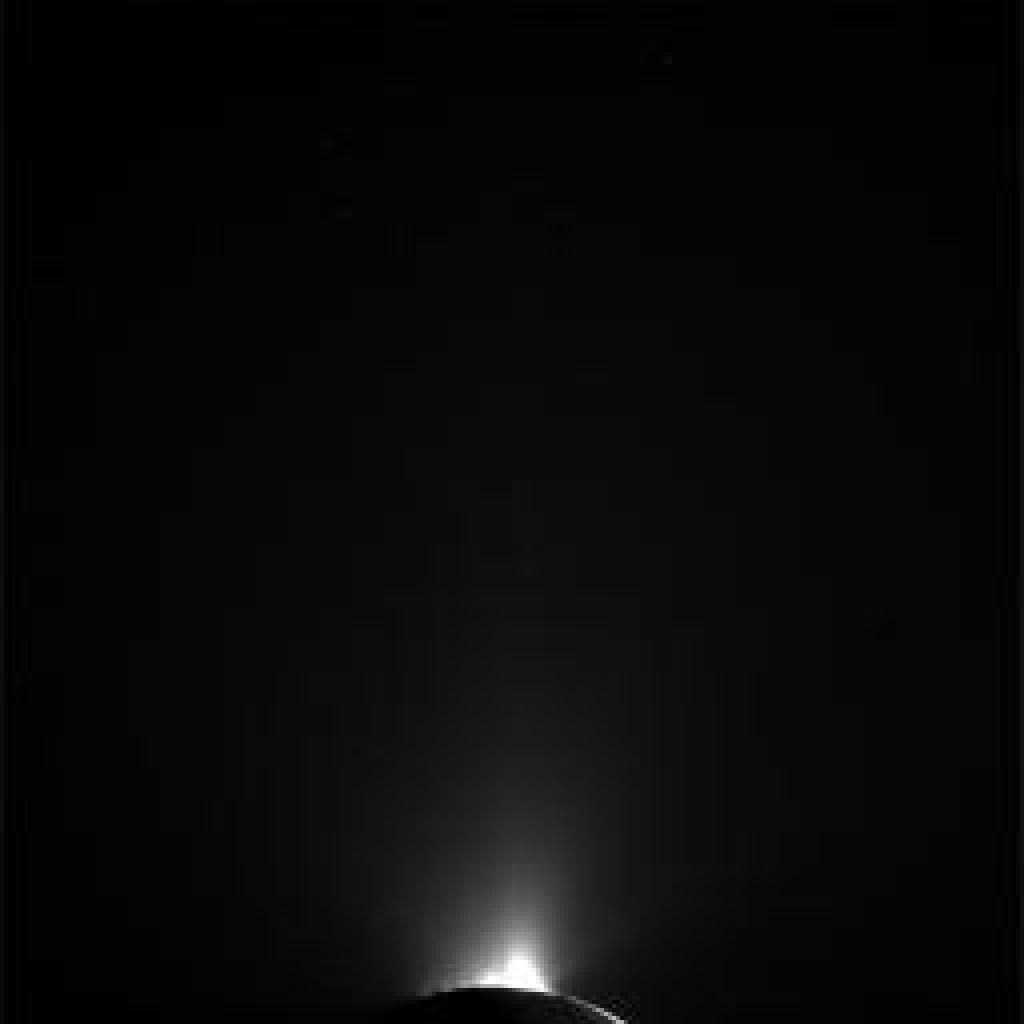plumes: (418, 857, 558, 1002)
